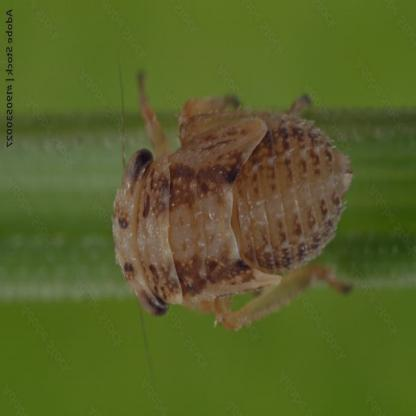brown-planthopper: (112, 97, 354, 333)
